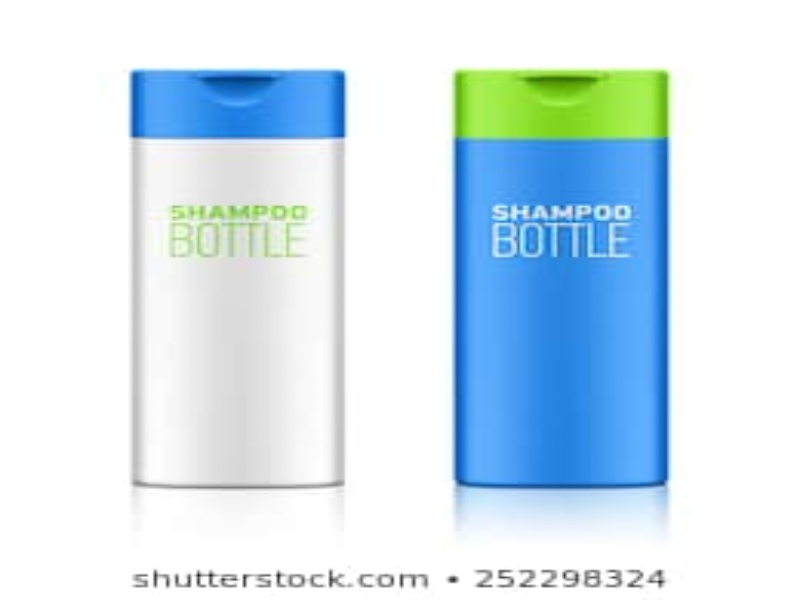shampoo-bottle: (122, 68, 359, 494), (444, 66, 678, 493)
